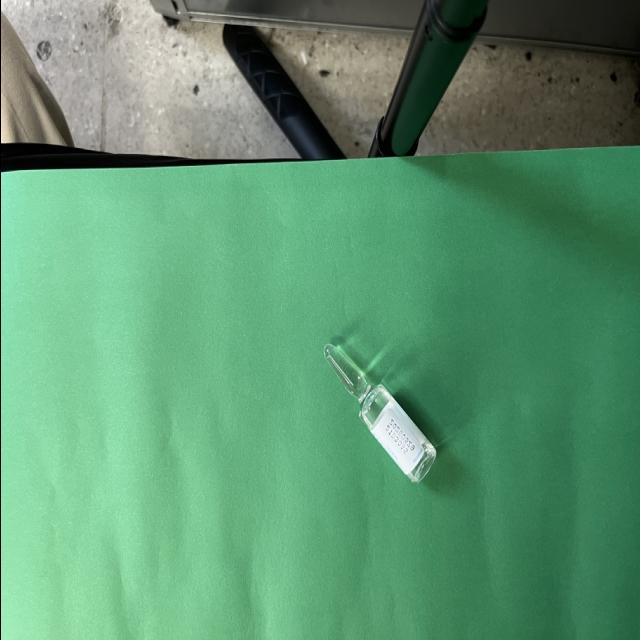Ampoules: (324, 343, 436, 482)
